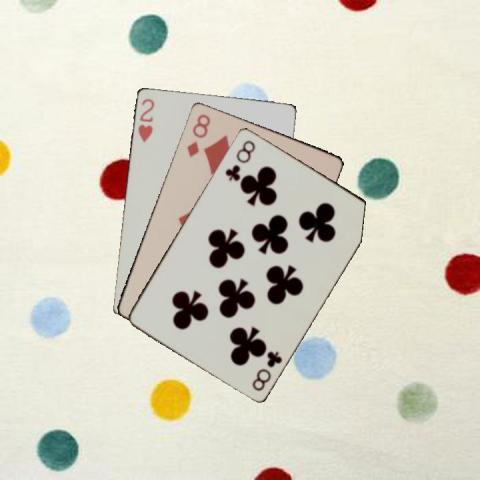2h: (135, 96, 155, 144)
8c: (222, 137, 257, 182), (249, 347, 284, 392)
8d: (184, 110, 212, 158)
